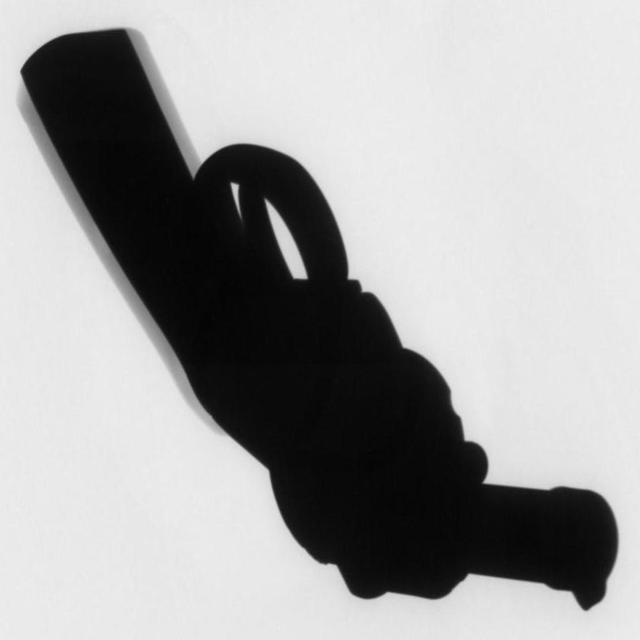gun: (19, 27, 622, 616)
